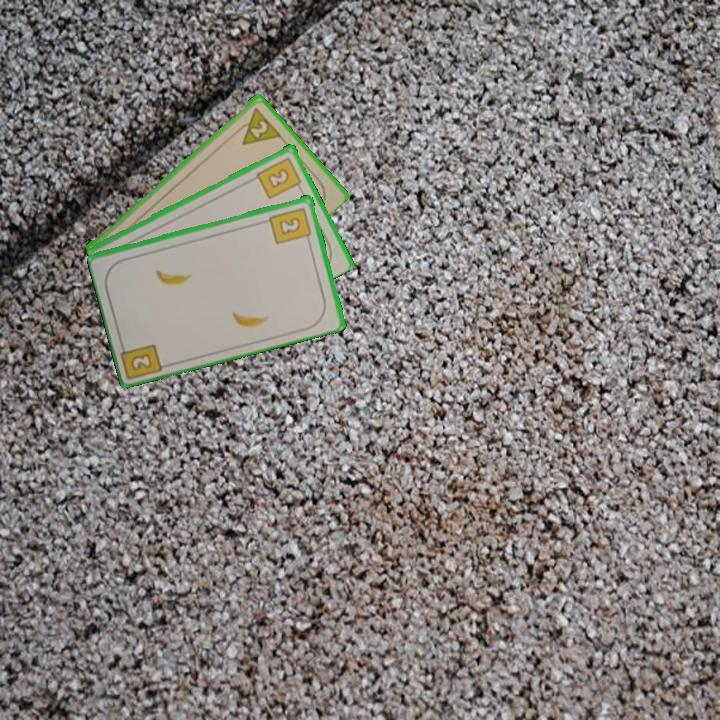2b: (253, 154, 305, 201), (117, 337, 167, 380), (266, 204, 314, 247)
2p: (247, 116, 271, 140)
